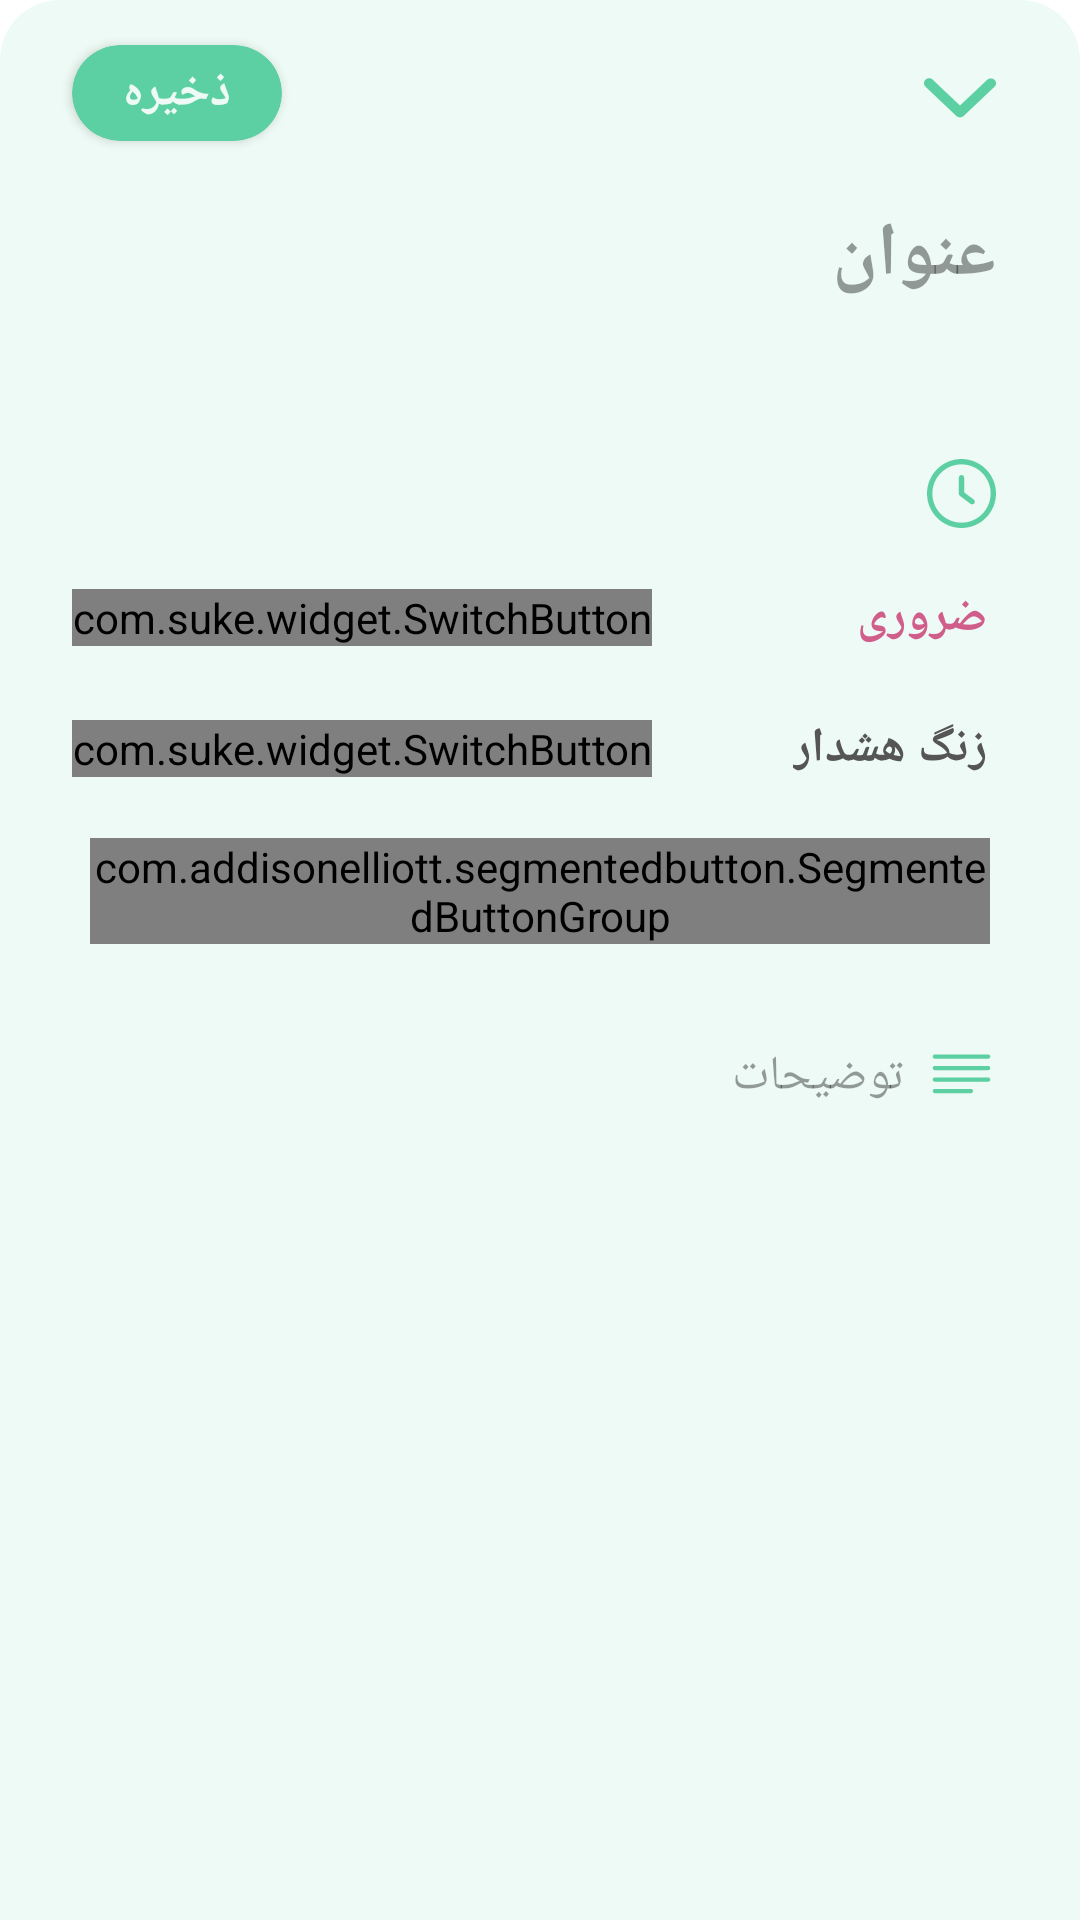

Icon bounding boxes for this 1080×1920 phone screenshot, format (x1, y1, x2, y2):
clock: (927, 459, 996, 528)
description: (932, 1054, 991, 1094)
down: (924, 78, 996, 118)
